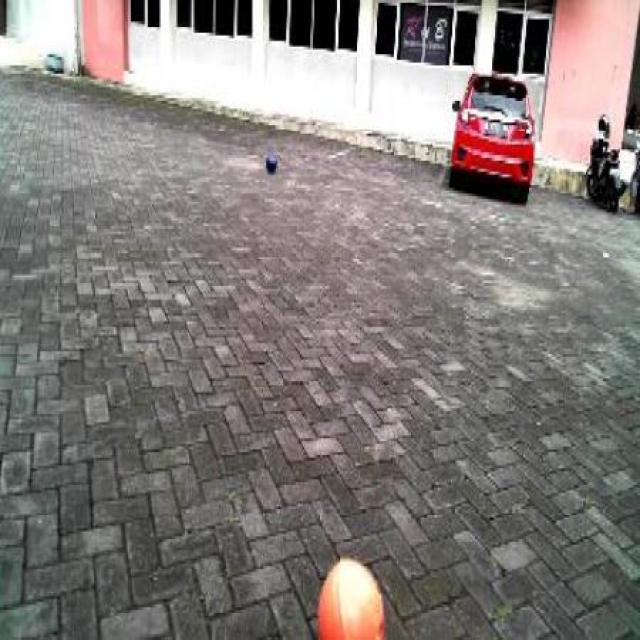buoy: (310, 540, 388, 636), (263, 148, 279, 172)
